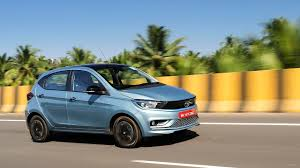Tiago: (16, 61, 204, 151)
